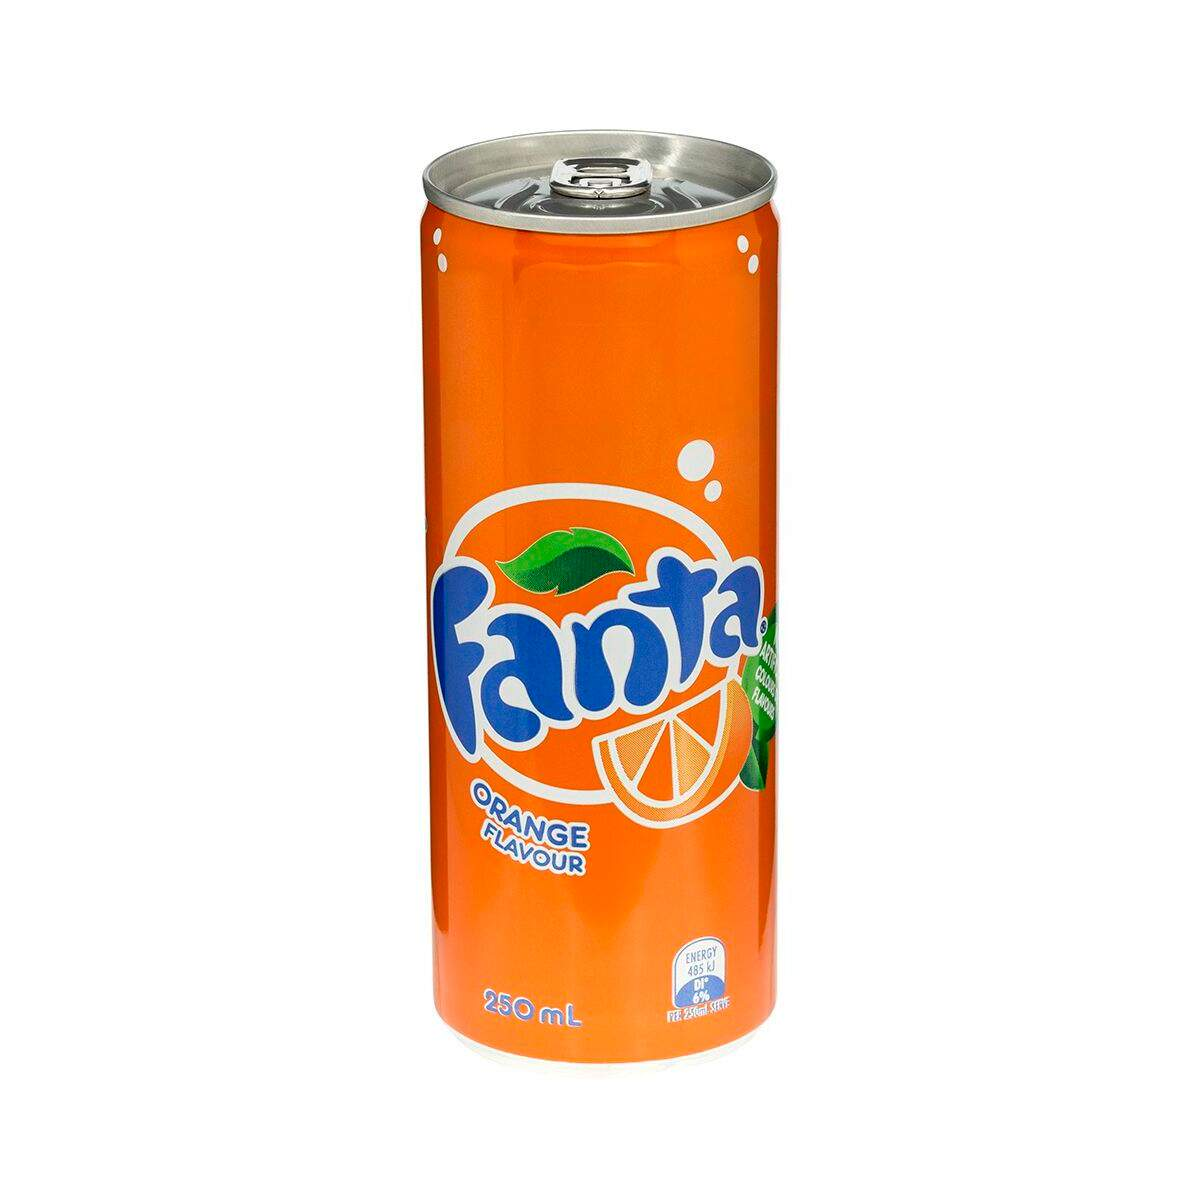fanta_can: (413, 130, 785, 1066)
